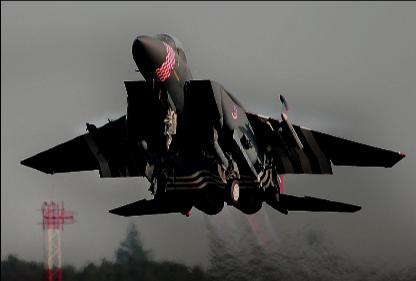F117: (18, 32, 404, 216)
